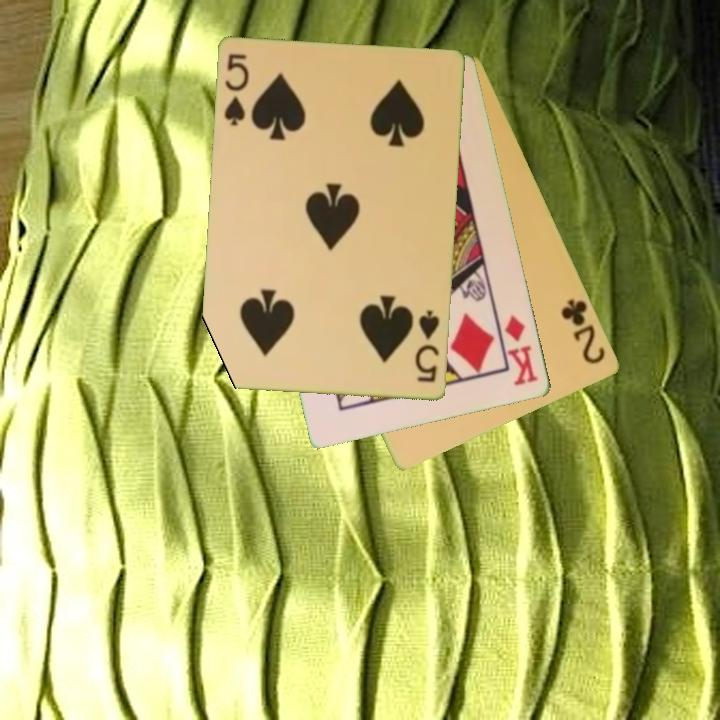2c: (558, 295, 609, 367)
5s: (412, 307, 443, 385), (221, 51, 252, 129)
Kd: (502, 312, 541, 389)
